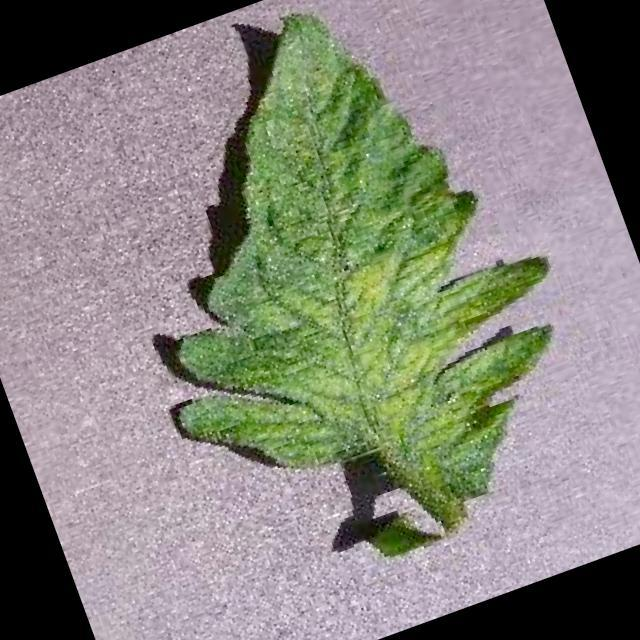Tomato mosaic virus leaf: (53, 0, 622, 589)
